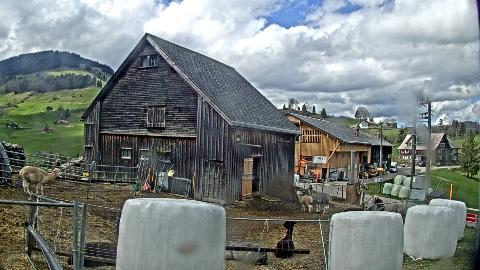car: (388, 166, 398, 172), (418, 161, 426, 167)
sheep: (68, 216, 120, 266), (20, 166, 62, 194), (226, 241, 268, 265), (274, 220, 298, 258), (306, 184, 331, 214), (296, 191, 314, 213), (390, 203, 410, 215), (52, 158, 60, 178), (344, 208, 366, 212), (252, 177, 260, 185)
